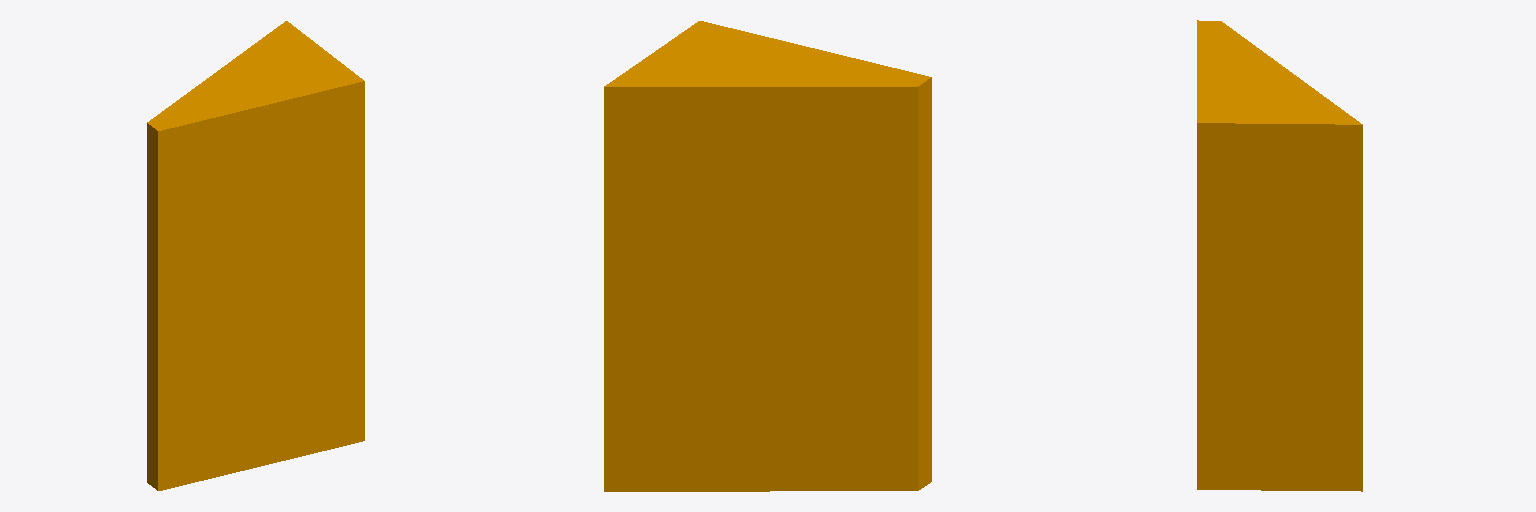
The robot description file, URDF, robot "isgefc":
<?xml version="1.0" ?>
<robot name="isgefc">
  <link name="base_link">
    <inertial>
      <origin xyz="0.00146418149 -0.00131979862 0.00999999978" rpy="0 0 0"/>
      <mass value="0.000475329796"/>
      <inertia ixx="1.76084009e-08" ixy="-1.40196525e-09" ixz="-2.72064873e-24" iyy="2.05538984e-08" iyz="1.36032437e-24" izz="6.47364766e-09"/>
    </inertial>
    <visual name="visual">
      <origin xyz="0 0 0" rpy="0 0 0"/>
      <geometry>
        <mesh filename="meshes/visual.obj" scale="1 1 1"/>
      </geometry>
    </visual>
    <collision name="A_inside">
      <origin xyz="0 0 0" rpy="0 0 0"/>
      <geometry>
        <mesh filename="meshes/collision/A_inside.obj" scale="1 1 1"/>
      </geometry>
    </collision>
  </link>
</robot>

--- Facts derived from the render (not from the file) ---
The picture shows the robot from 3 angles, left to right: view 1: azimuth 30°, elevation 25°; view 2: azimuth 150°, elevation 25°; view 3: azimuth 270°, elevation 25°; orthographic projection.
Model isgefc with 1 links and 0 joints (none), rooted at base_link, posed every joint at zero.
Visible links, largest first — view 1: base_link; view 2: base_link; view 3: base_link.
Boxes of the visible links, left/top/right/bottom form: base_link: left=147, top=21, right=364, bottom=490; base_link: left=604, top=21, right=931, bottom=491; base_link: left=1197, top=20, right=1362, bottom=491.
Bounding box of the posed robot: 0.0122 × 0.0082 × 0.02 m (x, y, z).
Meshes: 1 distinct files referenced, 1 mesh visuals loaded (1 OBJ).
